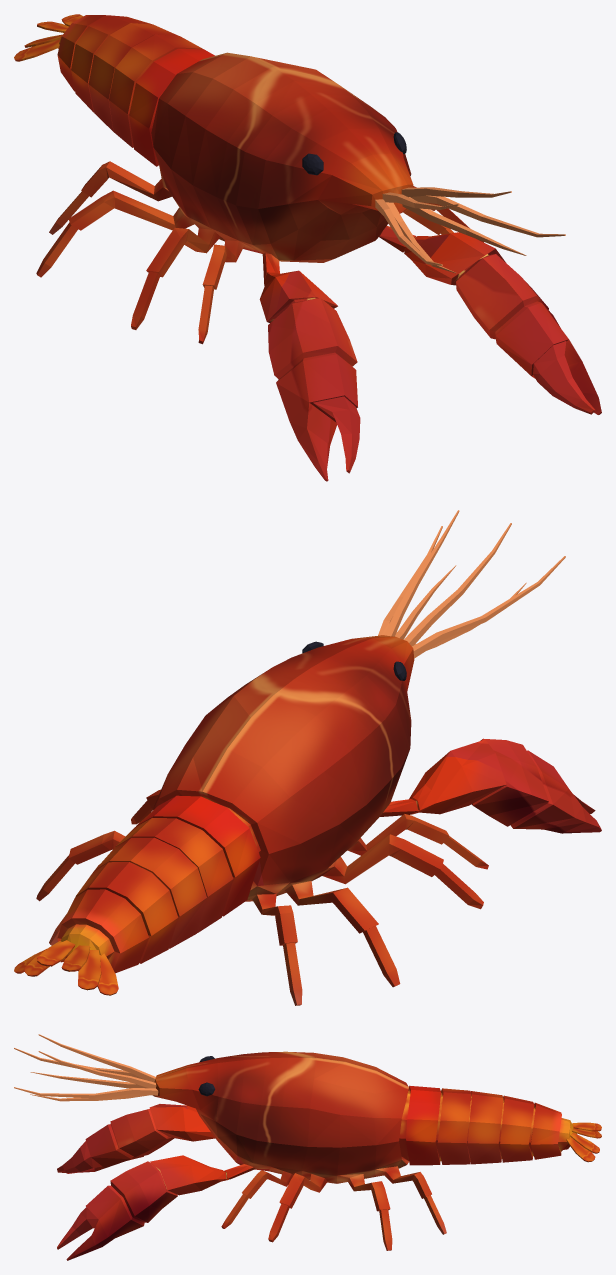
The model's file is crayfish.gltf.
3 views of the same model, one above another, from view 1: azimuth 30°, elevation 25°; view 2: azimuth 150°, elevation 25°; view 3: azimuth 270°, elevation 25° (orthographic). The views are drawn at different scales.
Visible parts, largest first — view 1: node-0; view 2: node-0; view 3: node-0.
Part boxes in pixels (bbox=[...]): node-0: bbox=[14, 14, 601, 481]; node-0: bbox=[14, 510, 601, 1005]; node-0: bbox=[14, 1034, 601, 1260].
Bounding box in the file's own units: 6.84 × 4.8 × 14.64.
Materials: 4 (2 with a texture image).
